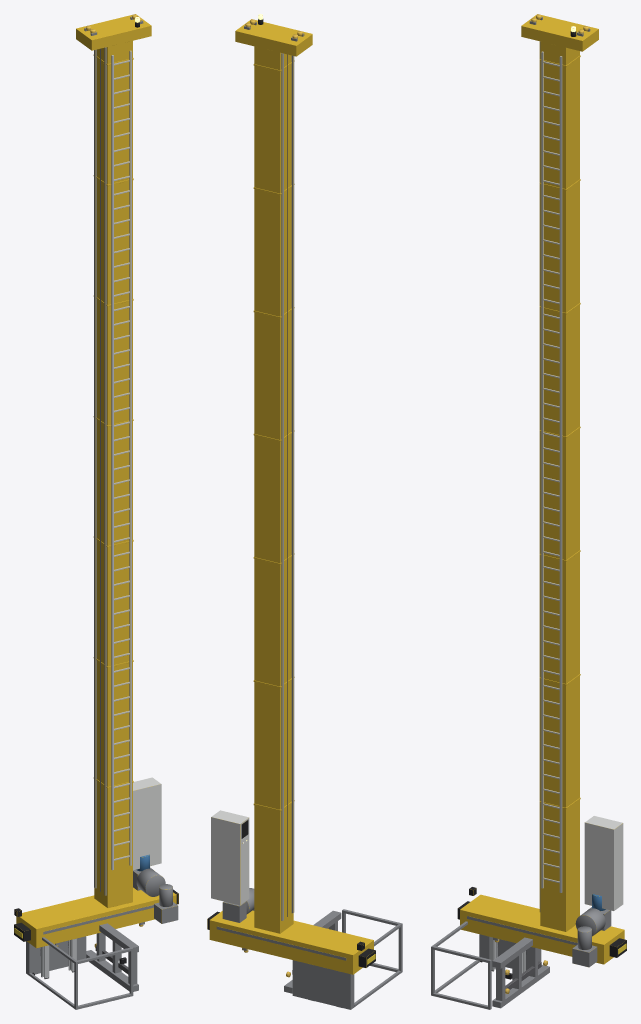
Rendered from stackercrane_crane.fbx.
3 views of the same model, side by side, from view 1: azimuth 30°, elevation 25°; view 2: azimuth 150°, elevation 25°; view 3: azimuth 330°, elevation 25° (orthographic). The views are drawn at different scales.
Visible parts, largest first — view 1: Frame, CarriageBody; view 2: Frame, CarriageBody; view 3: Frame, CarriageBody.
Boxes of the visible parts, box(x1,y1,x2,y2) form: Frame: box(14, 14, 178, 948); CarriageBody: box(26, 923, 138, 1009); Frame: box(207, 14, 375, 974); CarriageBody: box(284, 909, 402, 1009); Frame: box(457, 14, 626, 967); CarriageBody: box(431, 921, 549, 1009).
Bounding box in the file's own units: 3.39 × 19.59 × 2.08.
